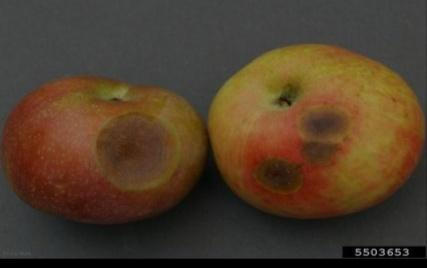rotten apple: (206, 41, 426, 233), (0, 71, 208, 226)
